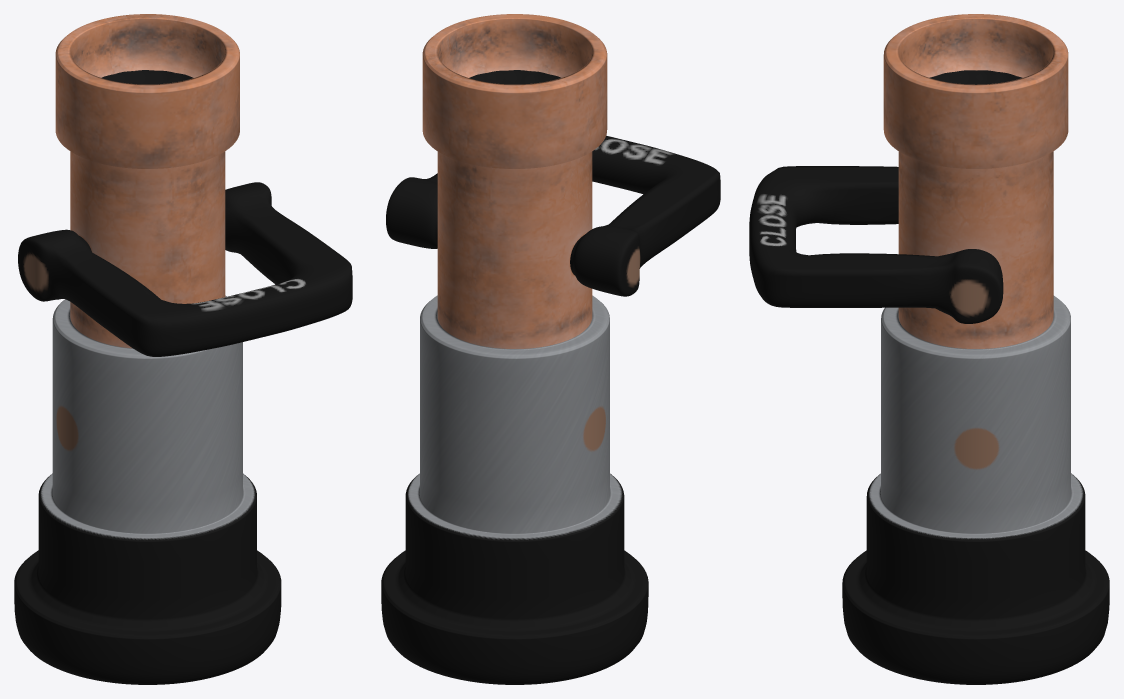
Rendered from hose.fbx.
3 views of the same model, side by side, from view 1: azimuth 30°, elevation 25°; view 2: azimuth 150°, elevation 25°; view 3: azimuth 270°, elevation 25° (orthographic).
Parts seen in each view (by area): view 1: pCube2; view 2: pCube2; view 3: pCube2.
Boxes of the visible parts, x1,y1,x2,y2 form: pCube2: [14, 14, 352, 684]; pCube2: [381, 14, 720, 684]; pCube2: [749, 14, 1109, 684].
Size of the model in its own units: 0.3402 by 0.8043 by 0.4517.
1 material, 1 textured.
